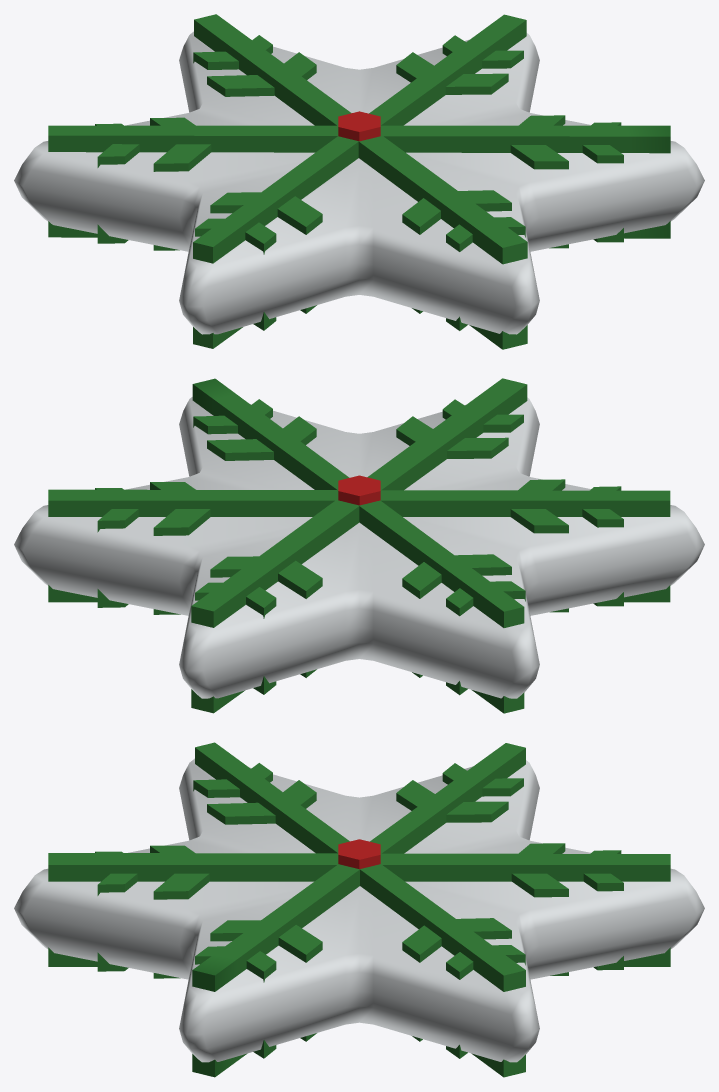
The model's file is snow.fbx.
3 renders of one model, top to bottom at view 1: azimuth 30°, elevation 25°; view 2: azimuth 150°, elevation 25°; view 3: azimuth 270°, elevation 25°, orthographic.
Parts seen in each view (by area): view 1: snow; view 2: snow; view 3: snow.
Boxes of the visible parts, box(x1,y1,x2,y2) form: snow: box(14, 14, 704, 349); snow: box(14, 378, 704, 713); snow: box(14, 742, 704, 1077).
Size of the model in its own units: 18.14 by 4.02 by 20.95.
